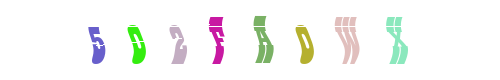0: (97, 0, 177, 80), (236, 0, 316, 80)
2: (177, 0, 257, 80)
5: (57, 0, 137, 80)
A: (217, 0, 297, 80)
F: (209, 0, 289, 80)
W: (265, 0, 345, 80)
X: (337, 0, 417, 80)
